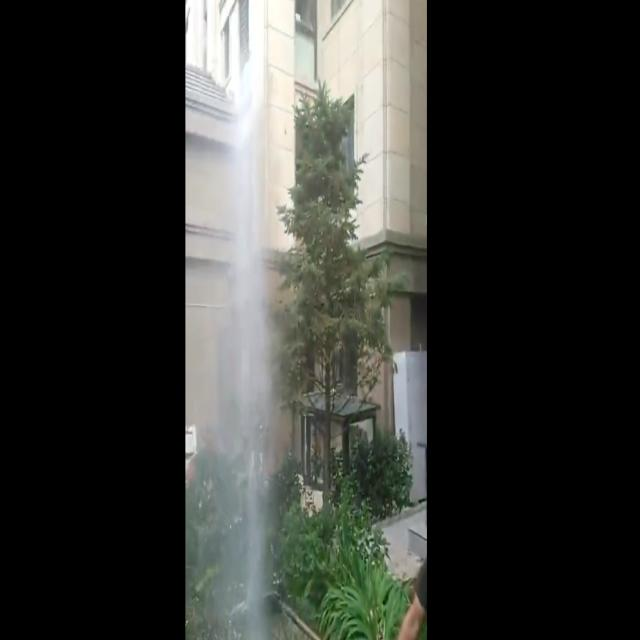leak: (235, 0, 269, 638)
